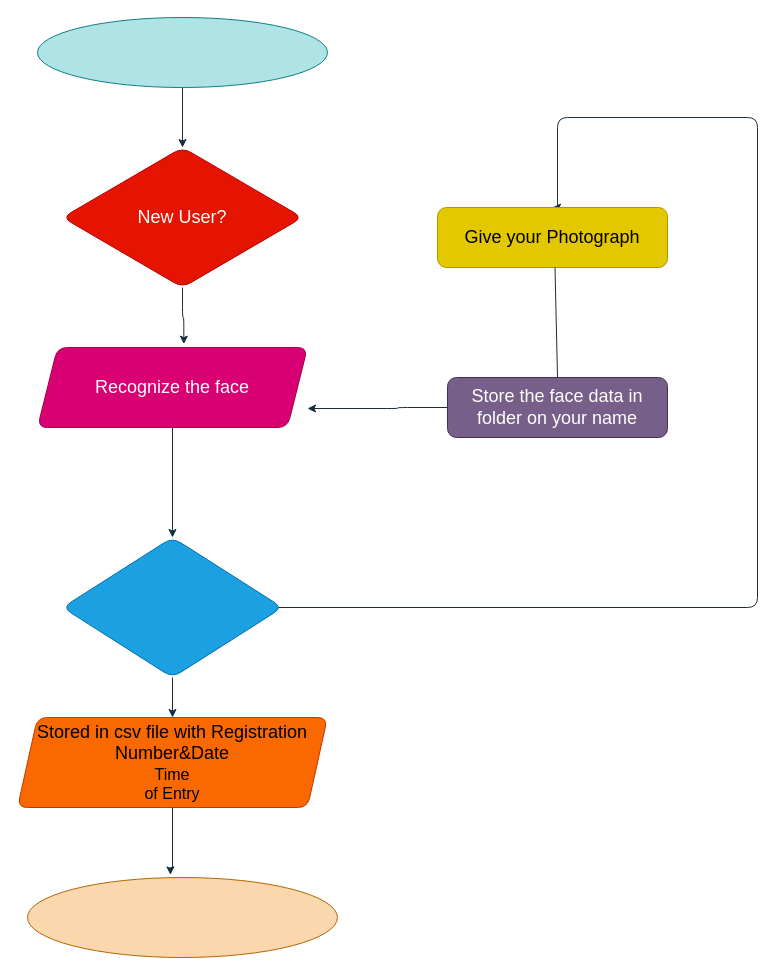
The diagram is 783 pixels wide and 975 high, and some of its shapes have lost their labels. The centre of each missing label's shape, as x and y in pixels:
"End" goes at pixel 182 917.
"Face Recognizied" goes at pixel 172 607.
"Start" goes at pixel 182 52.
